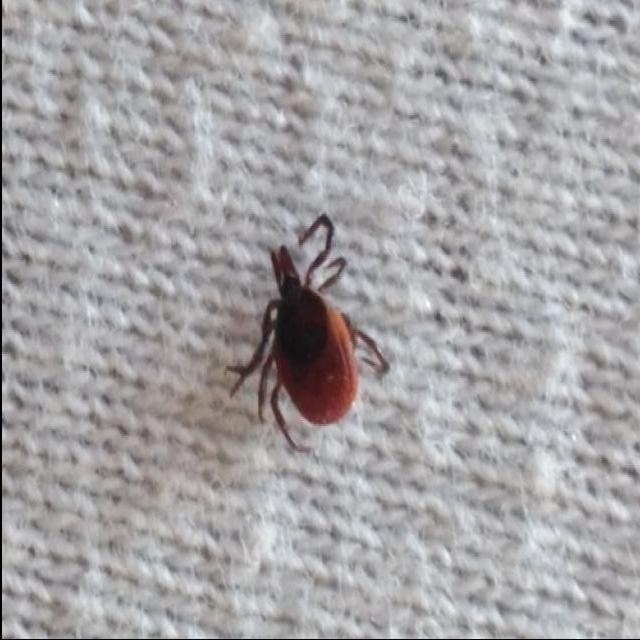Ixodes Ricinus-F: (223, 212, 388, 454)
